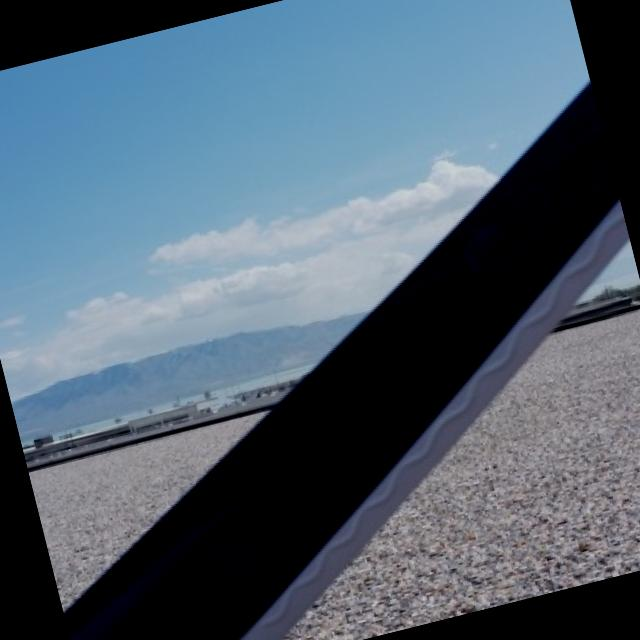healthy: (68, 81, 626, 640), (0, 0, 589, 397)
